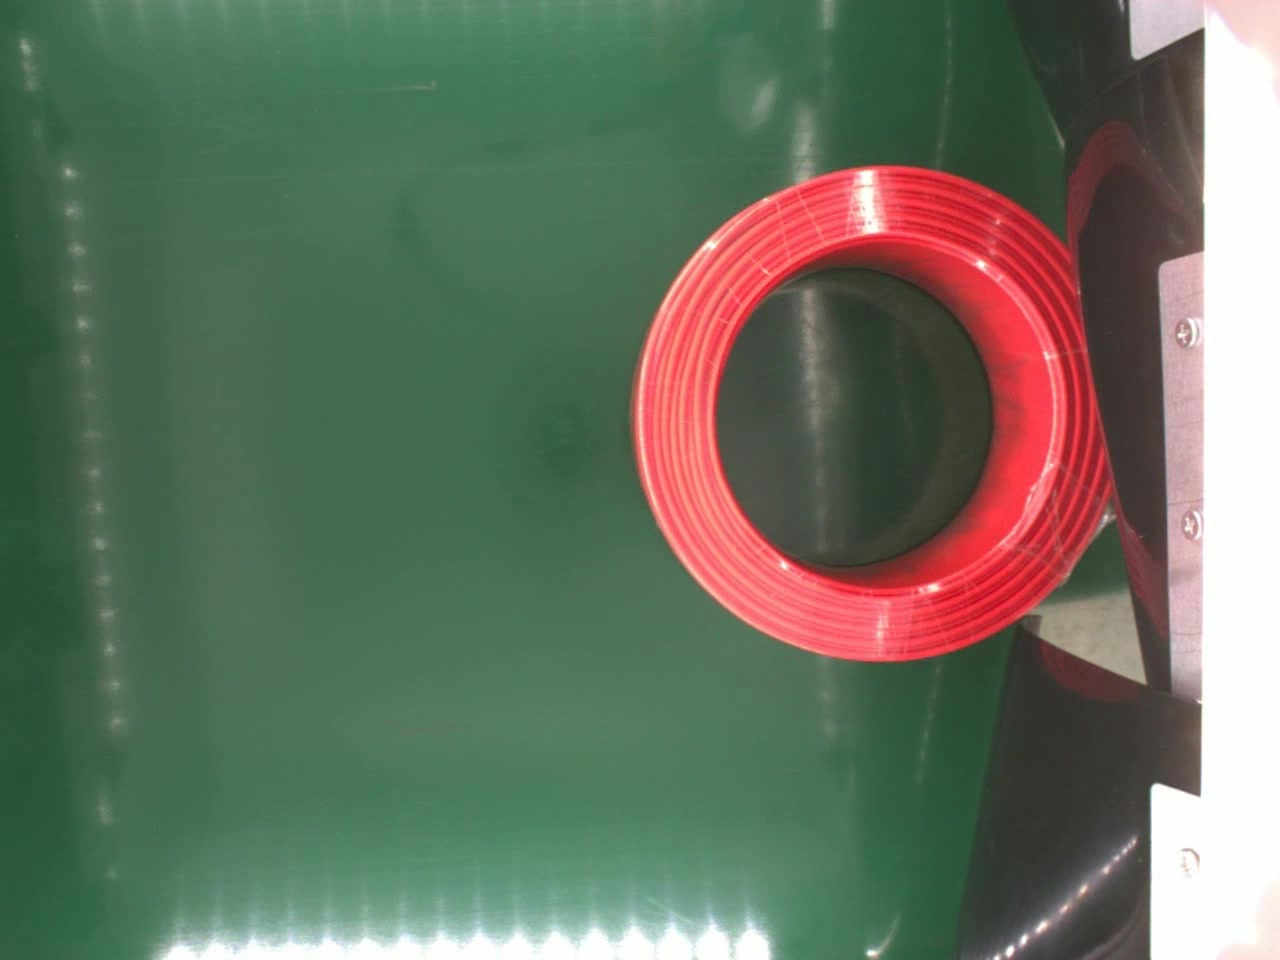red: (629, 163, 1112, 658)
